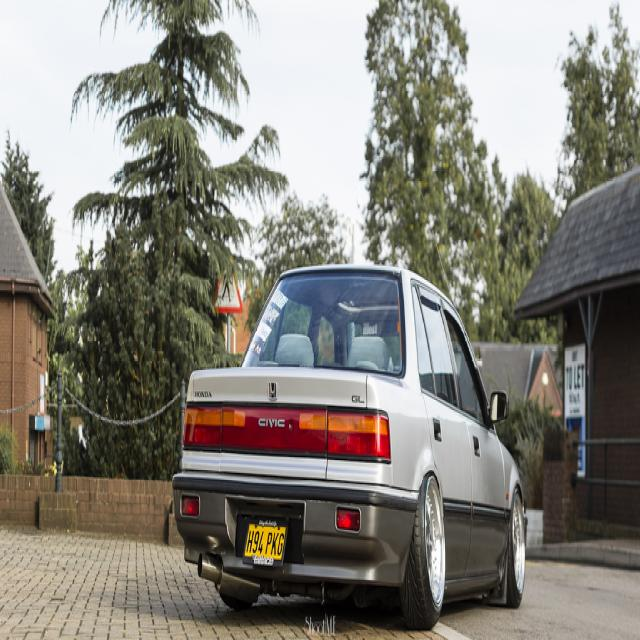car: (173, 263, 527, 630)
